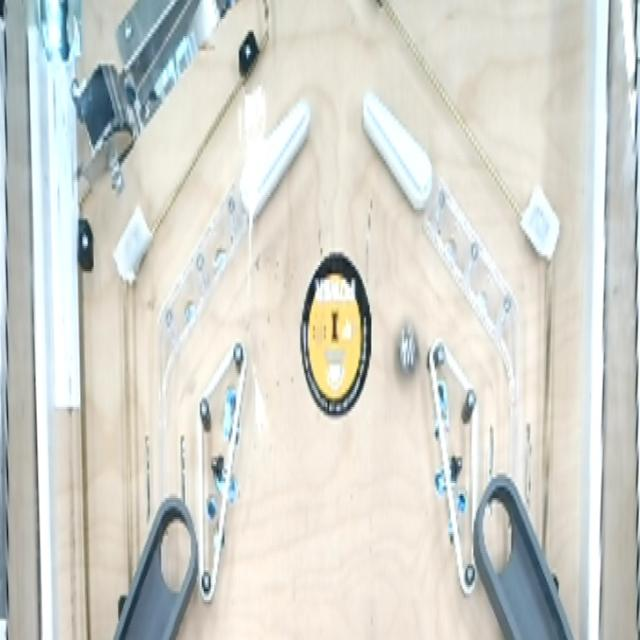ball: (392, 319, 422, 387)
flipper-left: (360, 83, 438, 224)
flipper-right: (238, 92, 314, 224)
